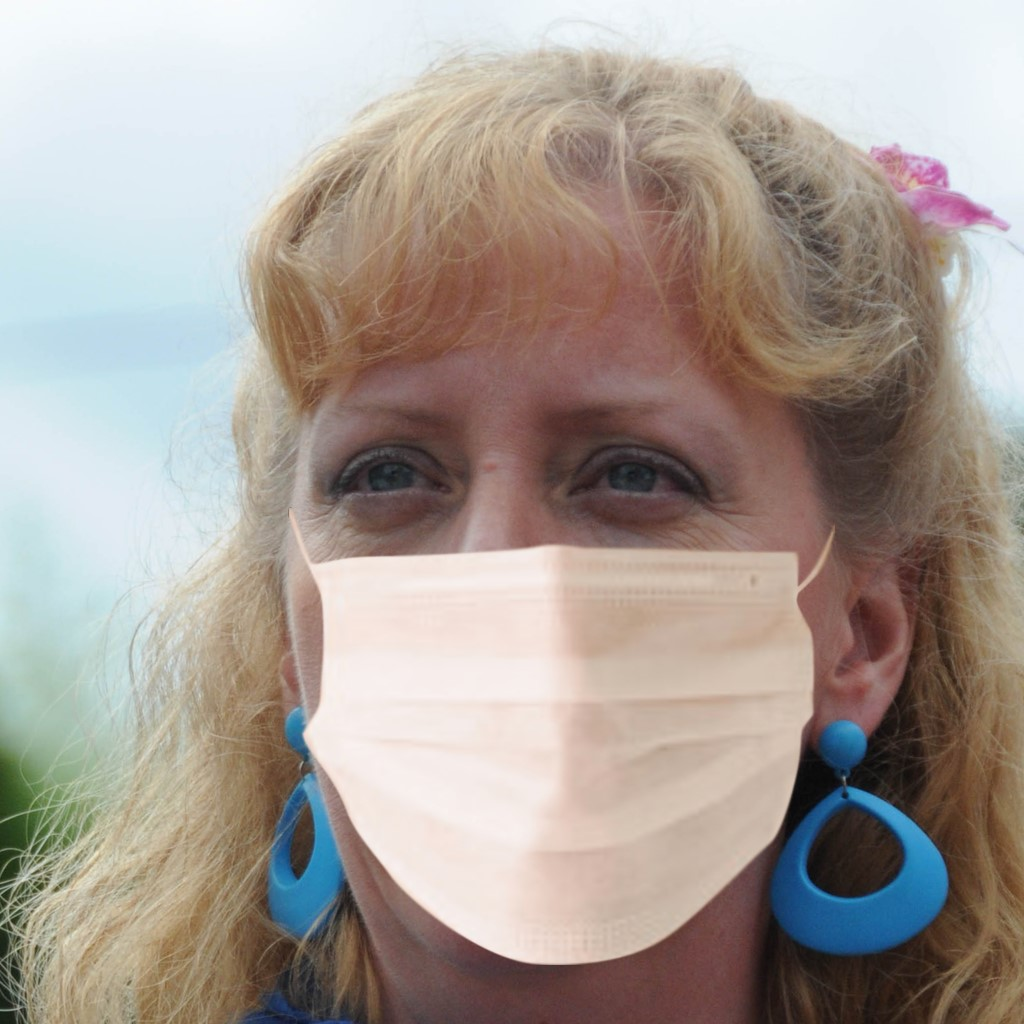con_mascara: (259, 133, 847, 931)
